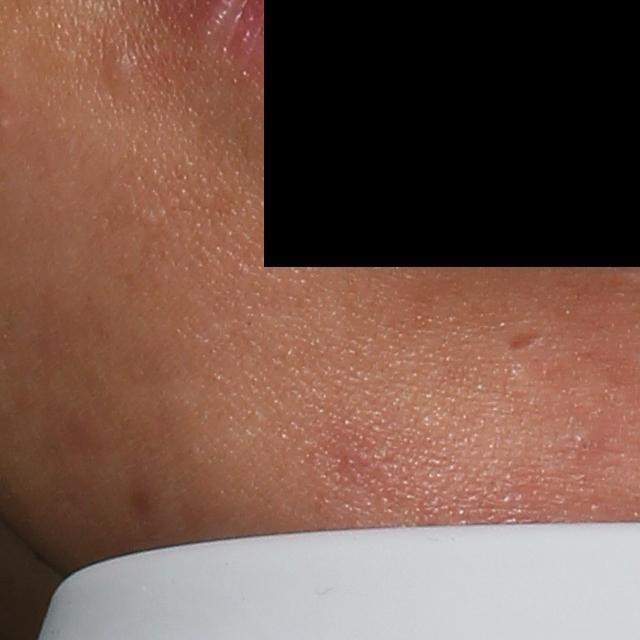atrophic_scar: (506, 332, 548, 350)
comedo: (96, 43, 143, 88)
